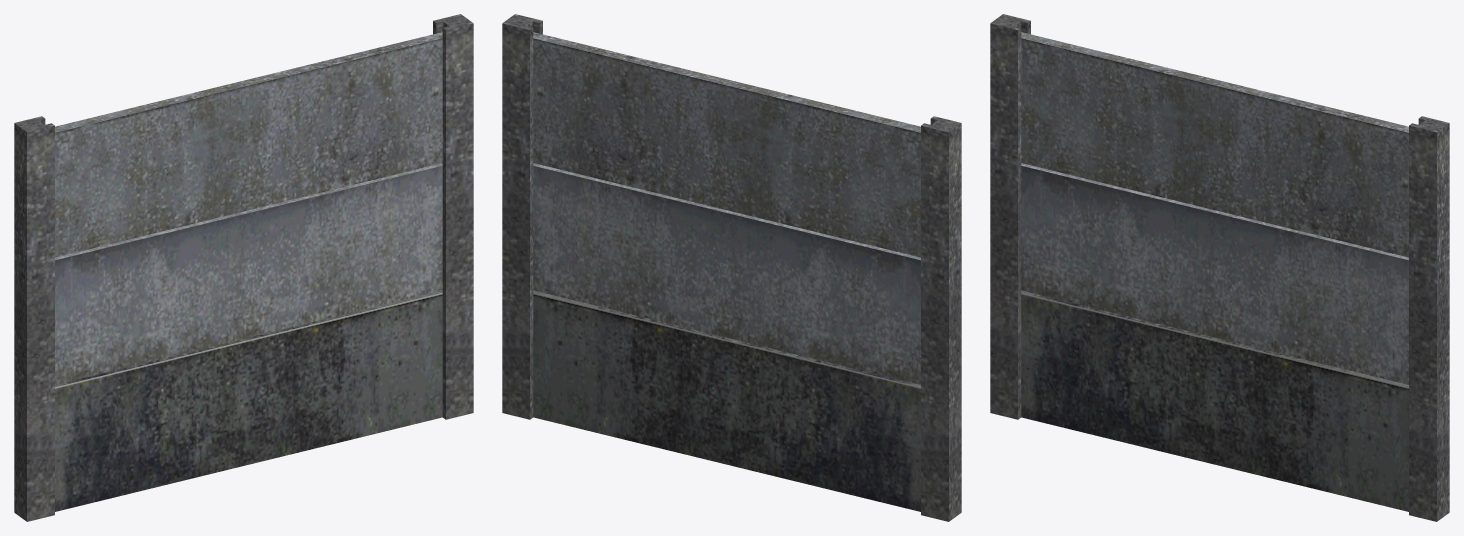
The model's file is plackard_closed_full.fbx.
3 renders of one model, left to right at view 1: azimuth 30°, elevation 25°; view 2: azimuth 150°, elevation 25°; view 3: azimuth 330°, elevation 25°, orthographic.
Parts seen in each view (by area): view 1: Body; view 2: Body; view 3: Body.
Boxes of the visible parts, x1,y1,x2,y2 form: Body: (14, 14, 473, 521); Body: (502, 14, 961, 521); Body: (990, 14, 1449, 521).
Bounding box in the file's own units: 300 × 250 × 15.
